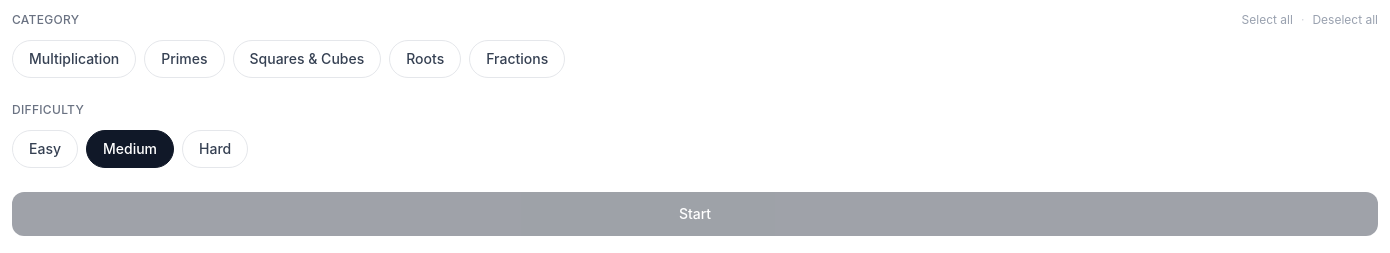
Test case: SessionConfig › Start button is disabled when only category selected (no difficulty)
The image size is (1390, 253).
Step 1. Click the button "Multiplication" → [74, 59], box [12, 40, 136, 78]
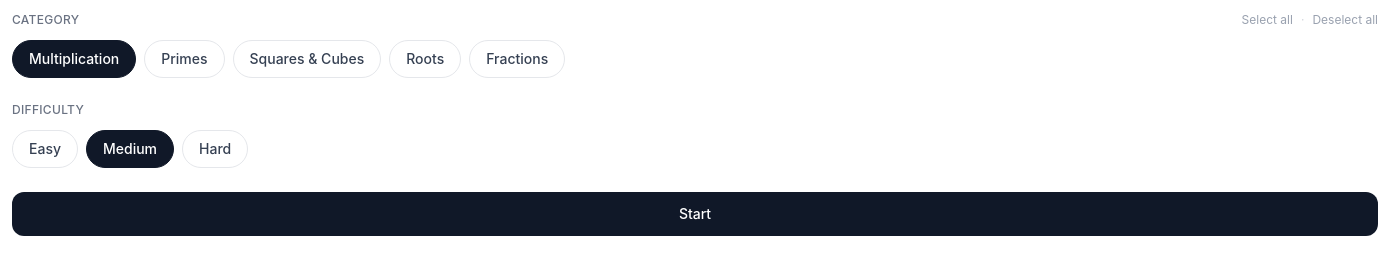
Step 2. Click the button "Medium" → [130, 149], box [86, 130, 174, 168]
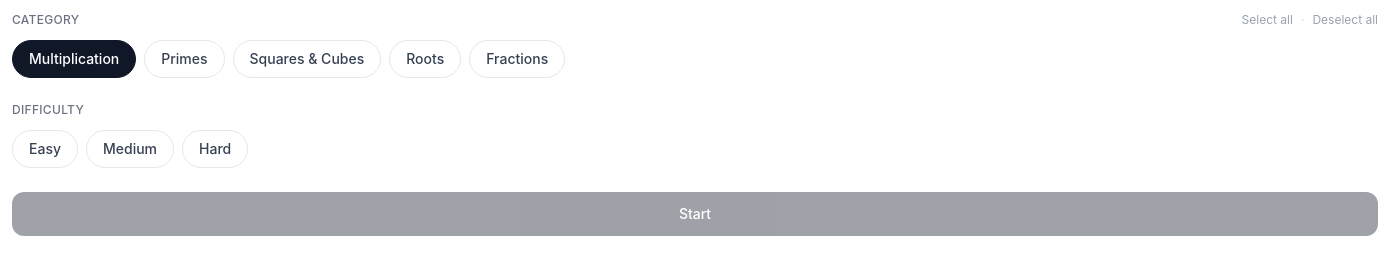
expect the button "Start" is disabled: met, box [12, 192, 1378, 236]
